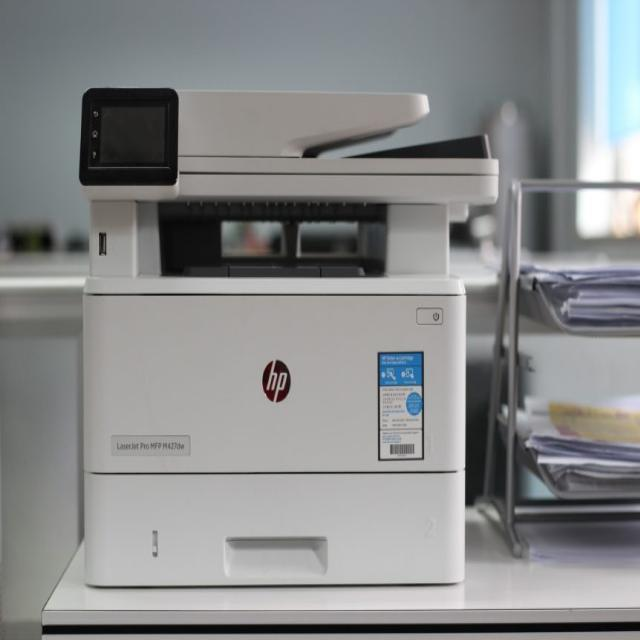printer: (77, 86, 500, 589)
